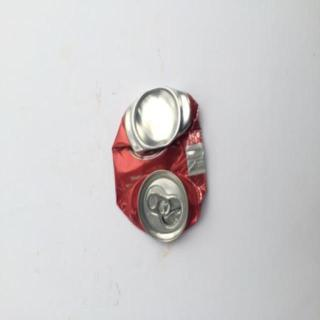Anorganik: (105, 83, 213, 249)
